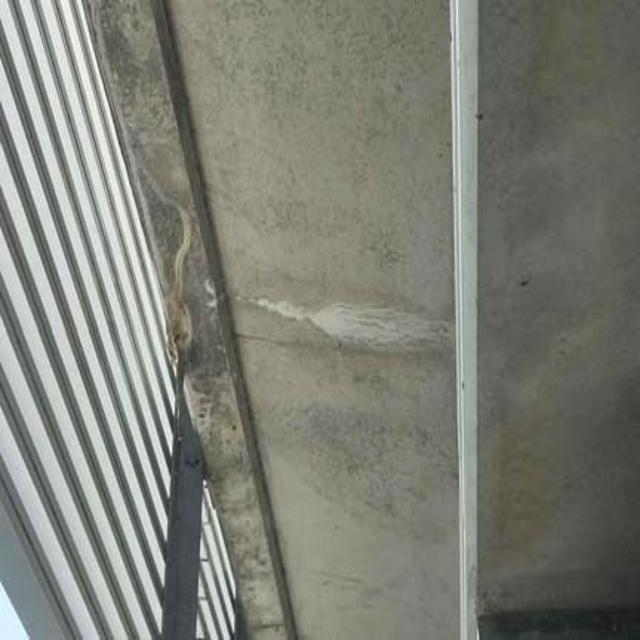freelime: (240, 273, 441, 356)
